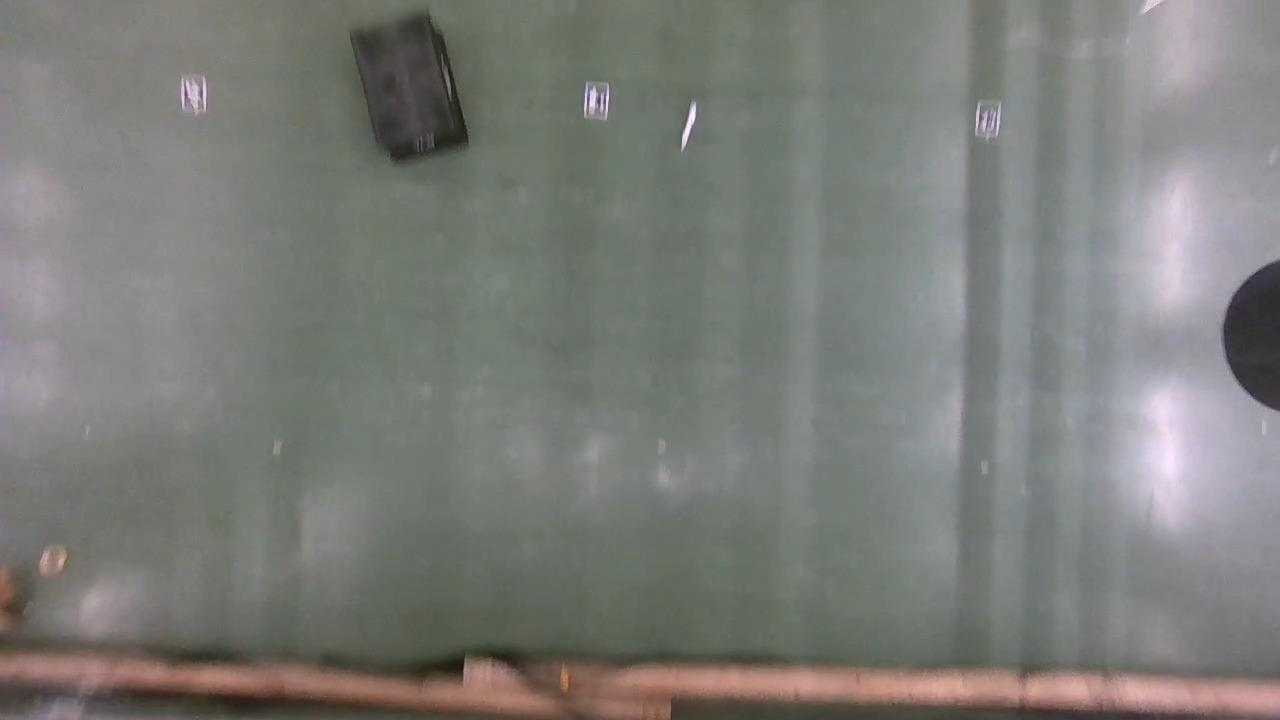probes: (683, 103, 698, 152)
rako: (349, 15, 469, 164)
